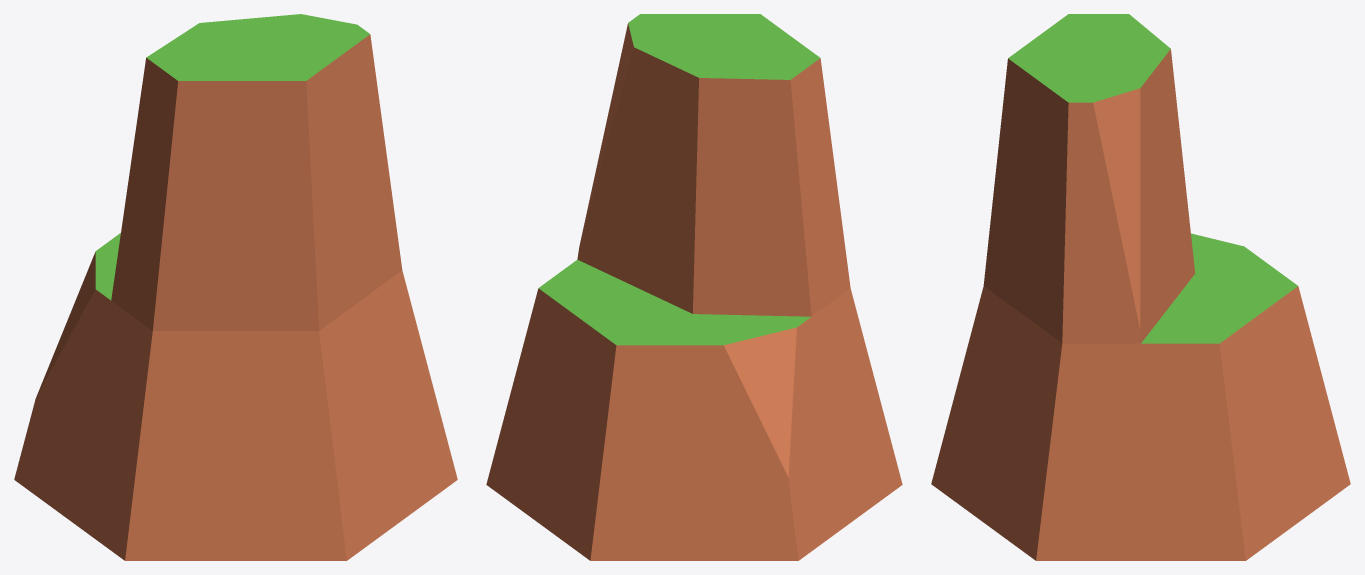
Rendered from rock_tallF.glb.
3 views of the same model, side by side, from view 1: azimuth 30°, elevation 25°; view 2: azimuth 150°, elevation 25°; view 3: azimuth 270°, elevation 25° (orthographic). The views are drawn at different scales.
Visible parts, largest first — view 1: rock_tallF; view 2: rock_tallF; view 3: rock_tallF.
Boxes of the visible parts, bbox=[...] form: rock_tallF: bbox=[14, 14, 457, 560]; rock_tallF: bbox=[486, 14, 902, 560]; rock_tallF: bbox=[931, 14, 1350, 560].
Size of the model in its own units: 0.4437 by 0.5737 by 0.5123.
